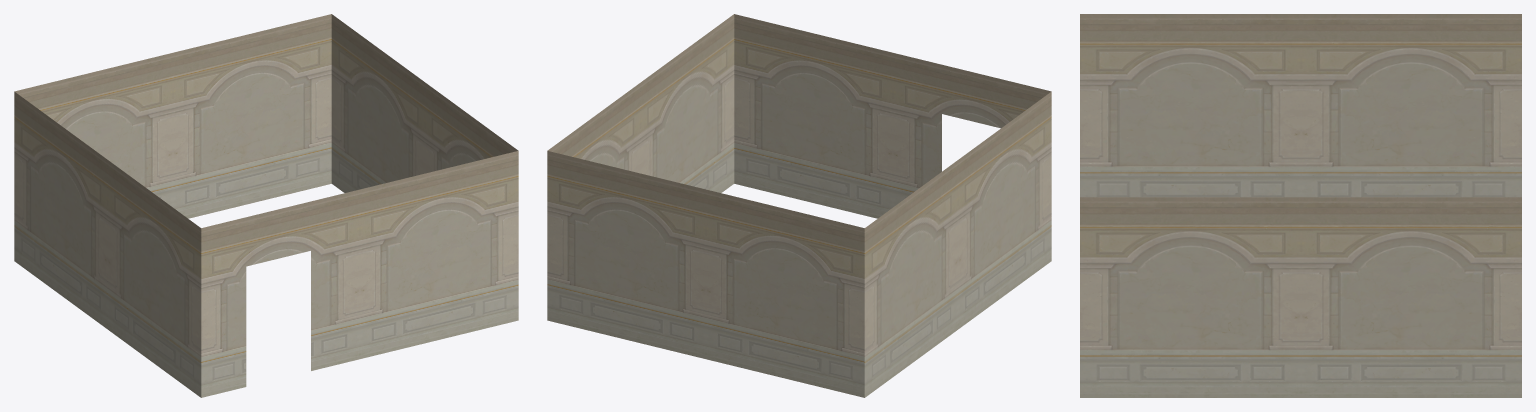
Rendered from Homeworld_Interior_Fd_Room_A_Filling_01_Vo.fbx.
3 views of the same model, side by side, from view 1: azimuth 30°, elevation 25°; view 2: azimuth 150°, elevation 25°; view 3: azimuth 270°, elevation 25° (orthographic). The views are drawn at different scales.
Visible parts, largest first — view 1: Homeworld_Interior_Fd_Room_A_Filling_01_Vo; view 2: Homeworld_Interior_Fd_Room_A_Filling_01_Vo; view 3: Homeworld_Interior_Fd_Room_A_Filling_01_Vo.
Boxes of the visible parts, x1,y1,x2,y2 form: Homeworld_Interior_Fd_Room_A_Filling_01_Vo: [14, 14, 518, 397]; Homeworld_Interior_Fd_Room_A_Filling_01_Vo: [547, 14, 1051, 397]; Homeworld_Interior_Fd_Room_A_Filling_01_Vo: [1080, 14, 1521, 397].
Bounding box in the file's own units: 9.75 × 4.98 × 9.94.
